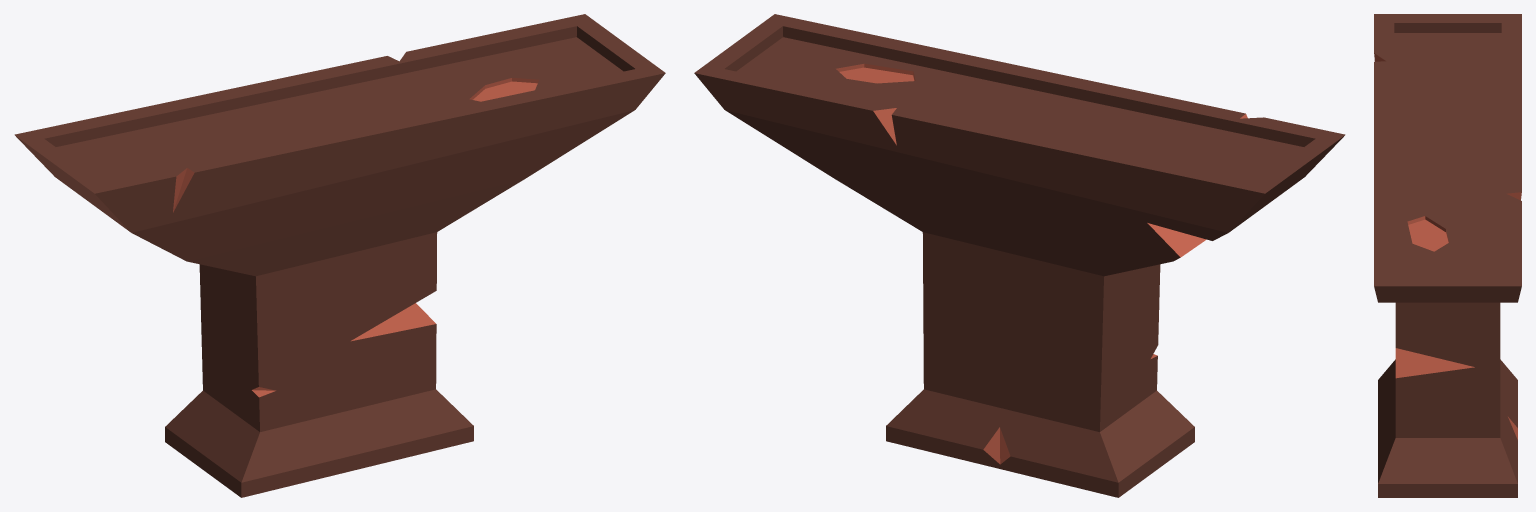
The model's file is Anvil_5_Red.fbx.
3 renders of one model, left to right at view 1: azimuth 30°, elevation 25°; view 2: azimuth 150°, elevation 25°; view 3: azimuth 270°, elevation 25°, orthographic. The views are drawn at different scales.
Visible parts, largest first — view 1: Anvil_5_Red_Part_1, Anvil_5_Red_Part_2; view 2: Anvil_5_Red_Part_1, Anvil_5_Red_Part_2; view 3: Anvil_5_Red_Part_1, Anvil_5_Red_Part_2.
Boxes of the visible parts, box(x1,y1,x2,y2) form: Anvil_5_Red_Part_1: box(14, 14, 665, 497); Anvil_5_Red_Part_2: box(173, 78, 538, 397); Anvil_5_Red_Part_1: box(694, 14, 1345, 497); Anvil_5_Red_Part_2: box(836, 63, 1247, 464); Anvil_5_Red_Part_1: box(1374, 14, 1521, 497); Anvil_5_Red_Part_2: box(1374, 53, 1521, 439).
Bounding box in the file's own units: 99.82 × 57.14 × 24.43.
